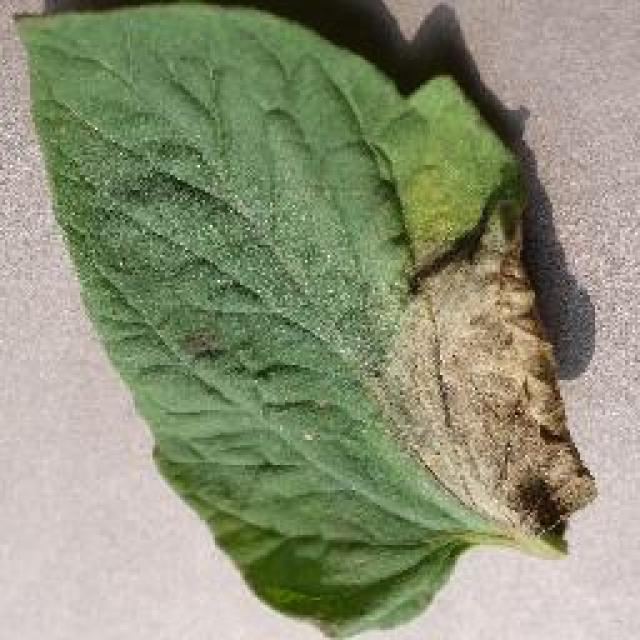Tomato Late Blight: (317, 160, 590, 507)
